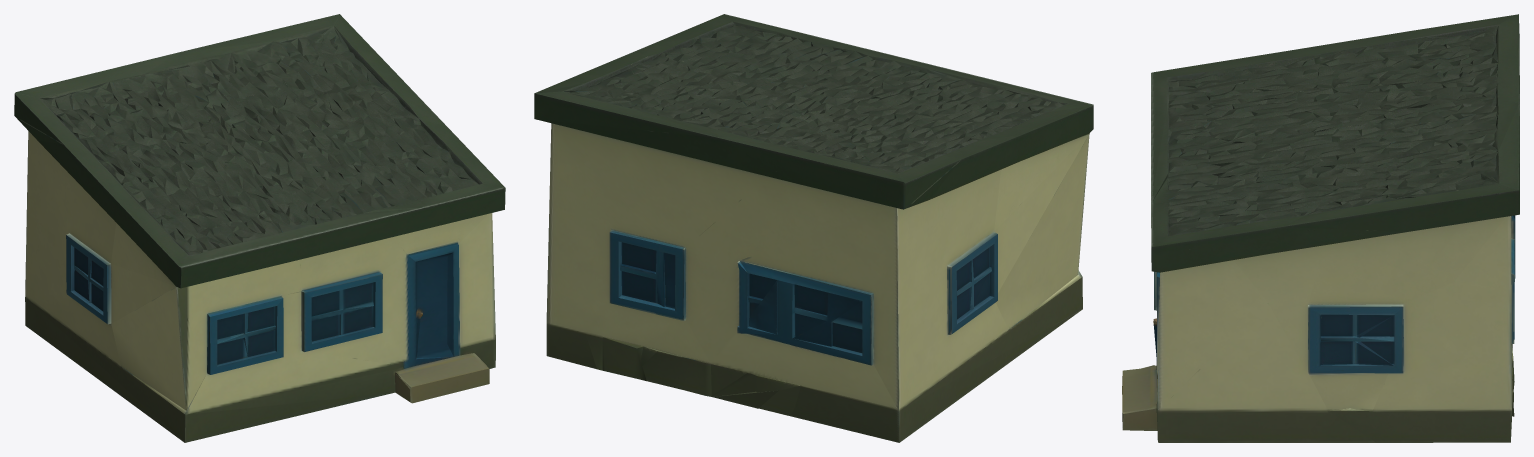
Rendered from simple-house-h.glb.
The picture shows the model from 3 angles, left to right: view 1: azimuth 30°, elevation 25°; view 2: azimuth 150°, elevation 25°; view 3: azimuth 270°, elevation 25°; orthographic projection. The views are drawn at different scales.
Size of the model in its own units: 1.9 by 1.3 by 1.81.
Materials: 1 (1 with a texture image).
